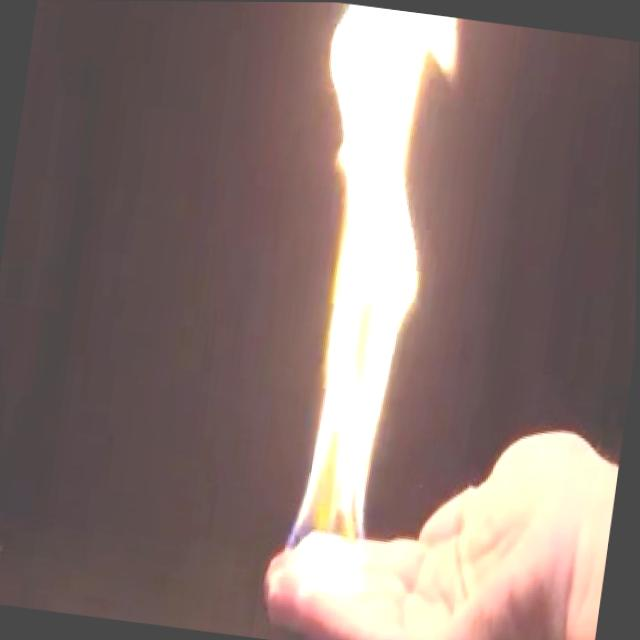Fire: (246, 1, 471, 616)
